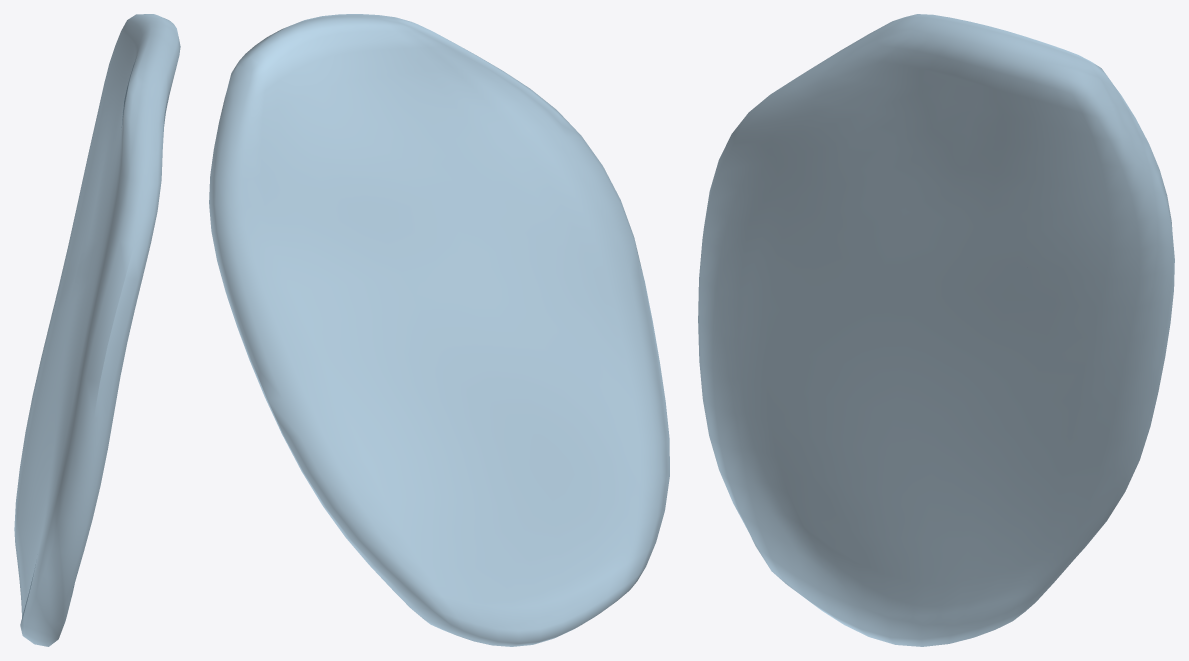
The model's file is bourse-anserine.glb.
3 views of the same model, side by side, from view 1: azimuth 30°, elevation 25°; view 2: azimuth 150°, elevation 25°; view 3: azimuth 270°, elevation 25° (orthographic). The views are drawn at different scales.
Visible parts, largest first — view 1: bourse-anserine; view 2: bourse-anserine; view 3: bourse-anserine.
Boxes of the visible parts, bbox=[...] form: bourse-anserine: bbox=[14, 14, 180, 646]; bourse-anserine: bbox=[209, 14, 669, 646]; bourse-anserine: bbox=[698, 14, 1174, 646].
Bounding box in the file's own units: 0.0139 × 0.0281 × 0.0172.
